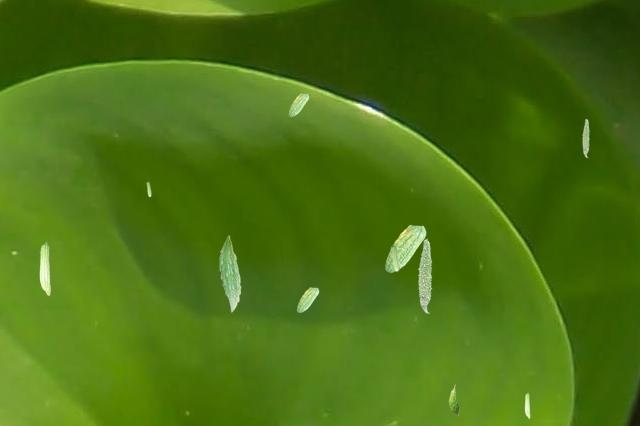ampalaya: (385, 224, 426, 273), (219, 235, 241, 312), (417, 238, 432, 313), (39, 241, 51, 296), (296, 287, 319, 313), (288, 93, 309, 117), (448, 384, 459, 415), (582, 118, 589, 158), (390, 245, 399, 271), (524, 392, 530, 419), (146, 181, 151, 197)
